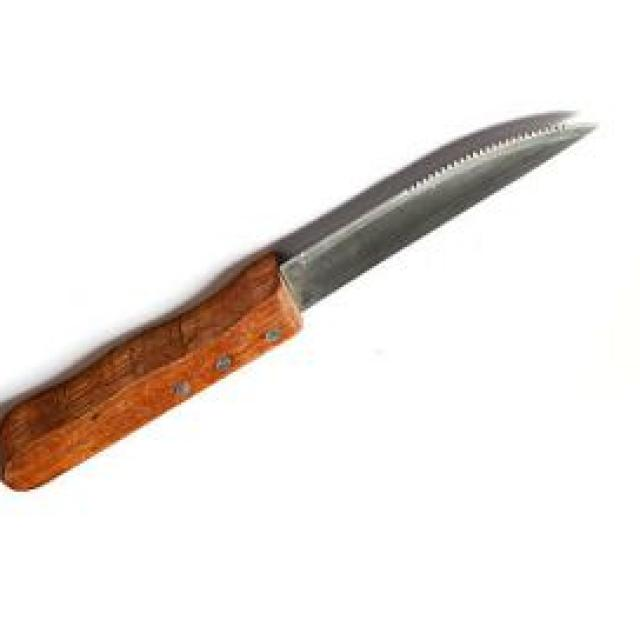knife: (0, 102, 603, 504)
